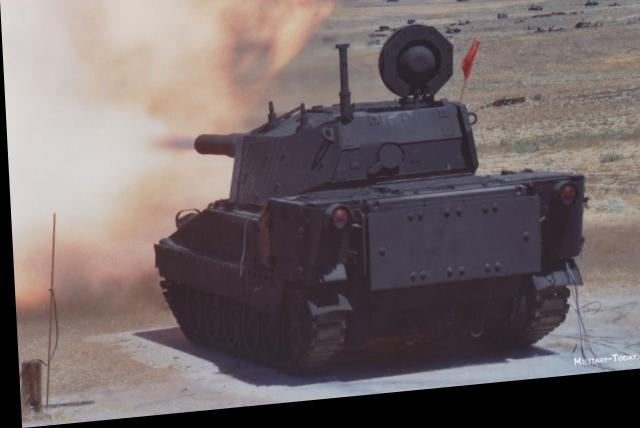tank: (150, 97, 598, 396)
